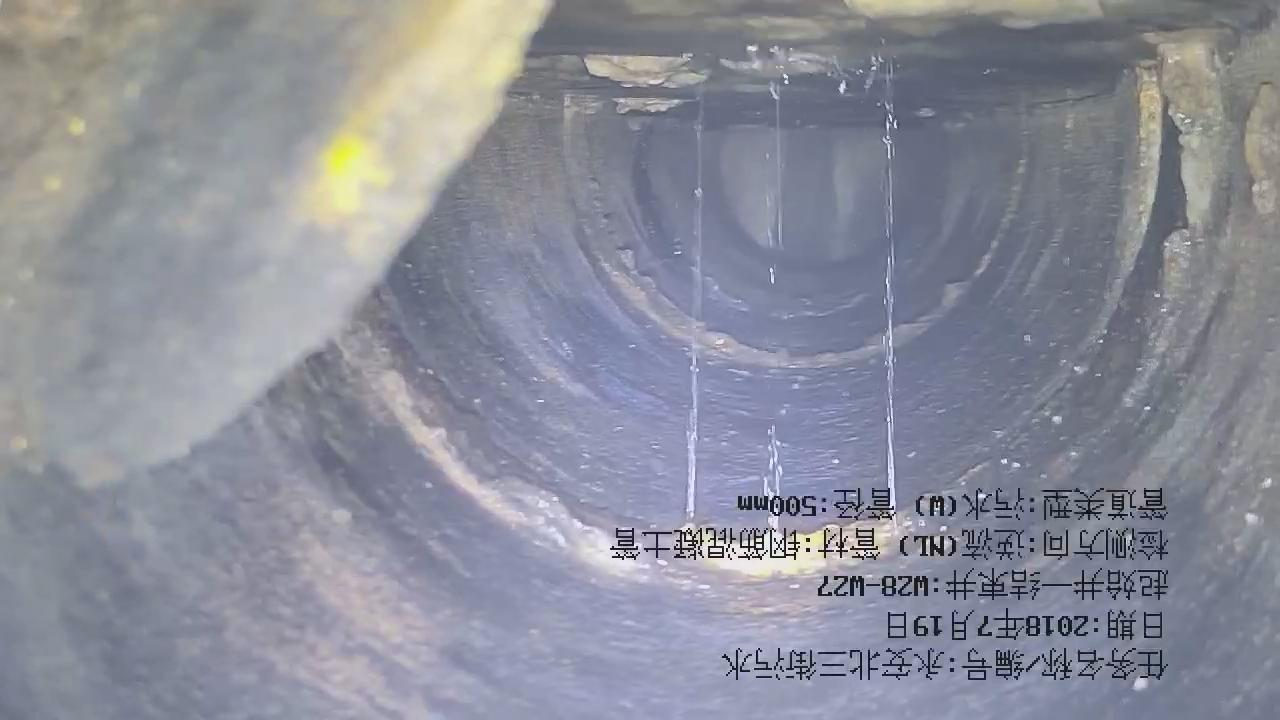SL: (637, 24, 916, 592)
